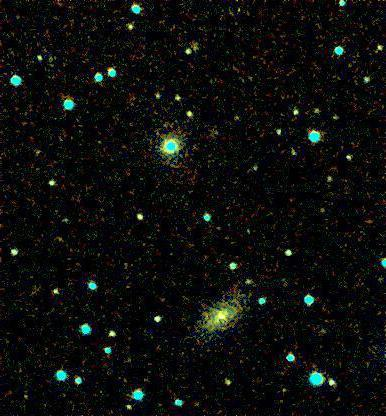star: (53, 204, 83, 234)
